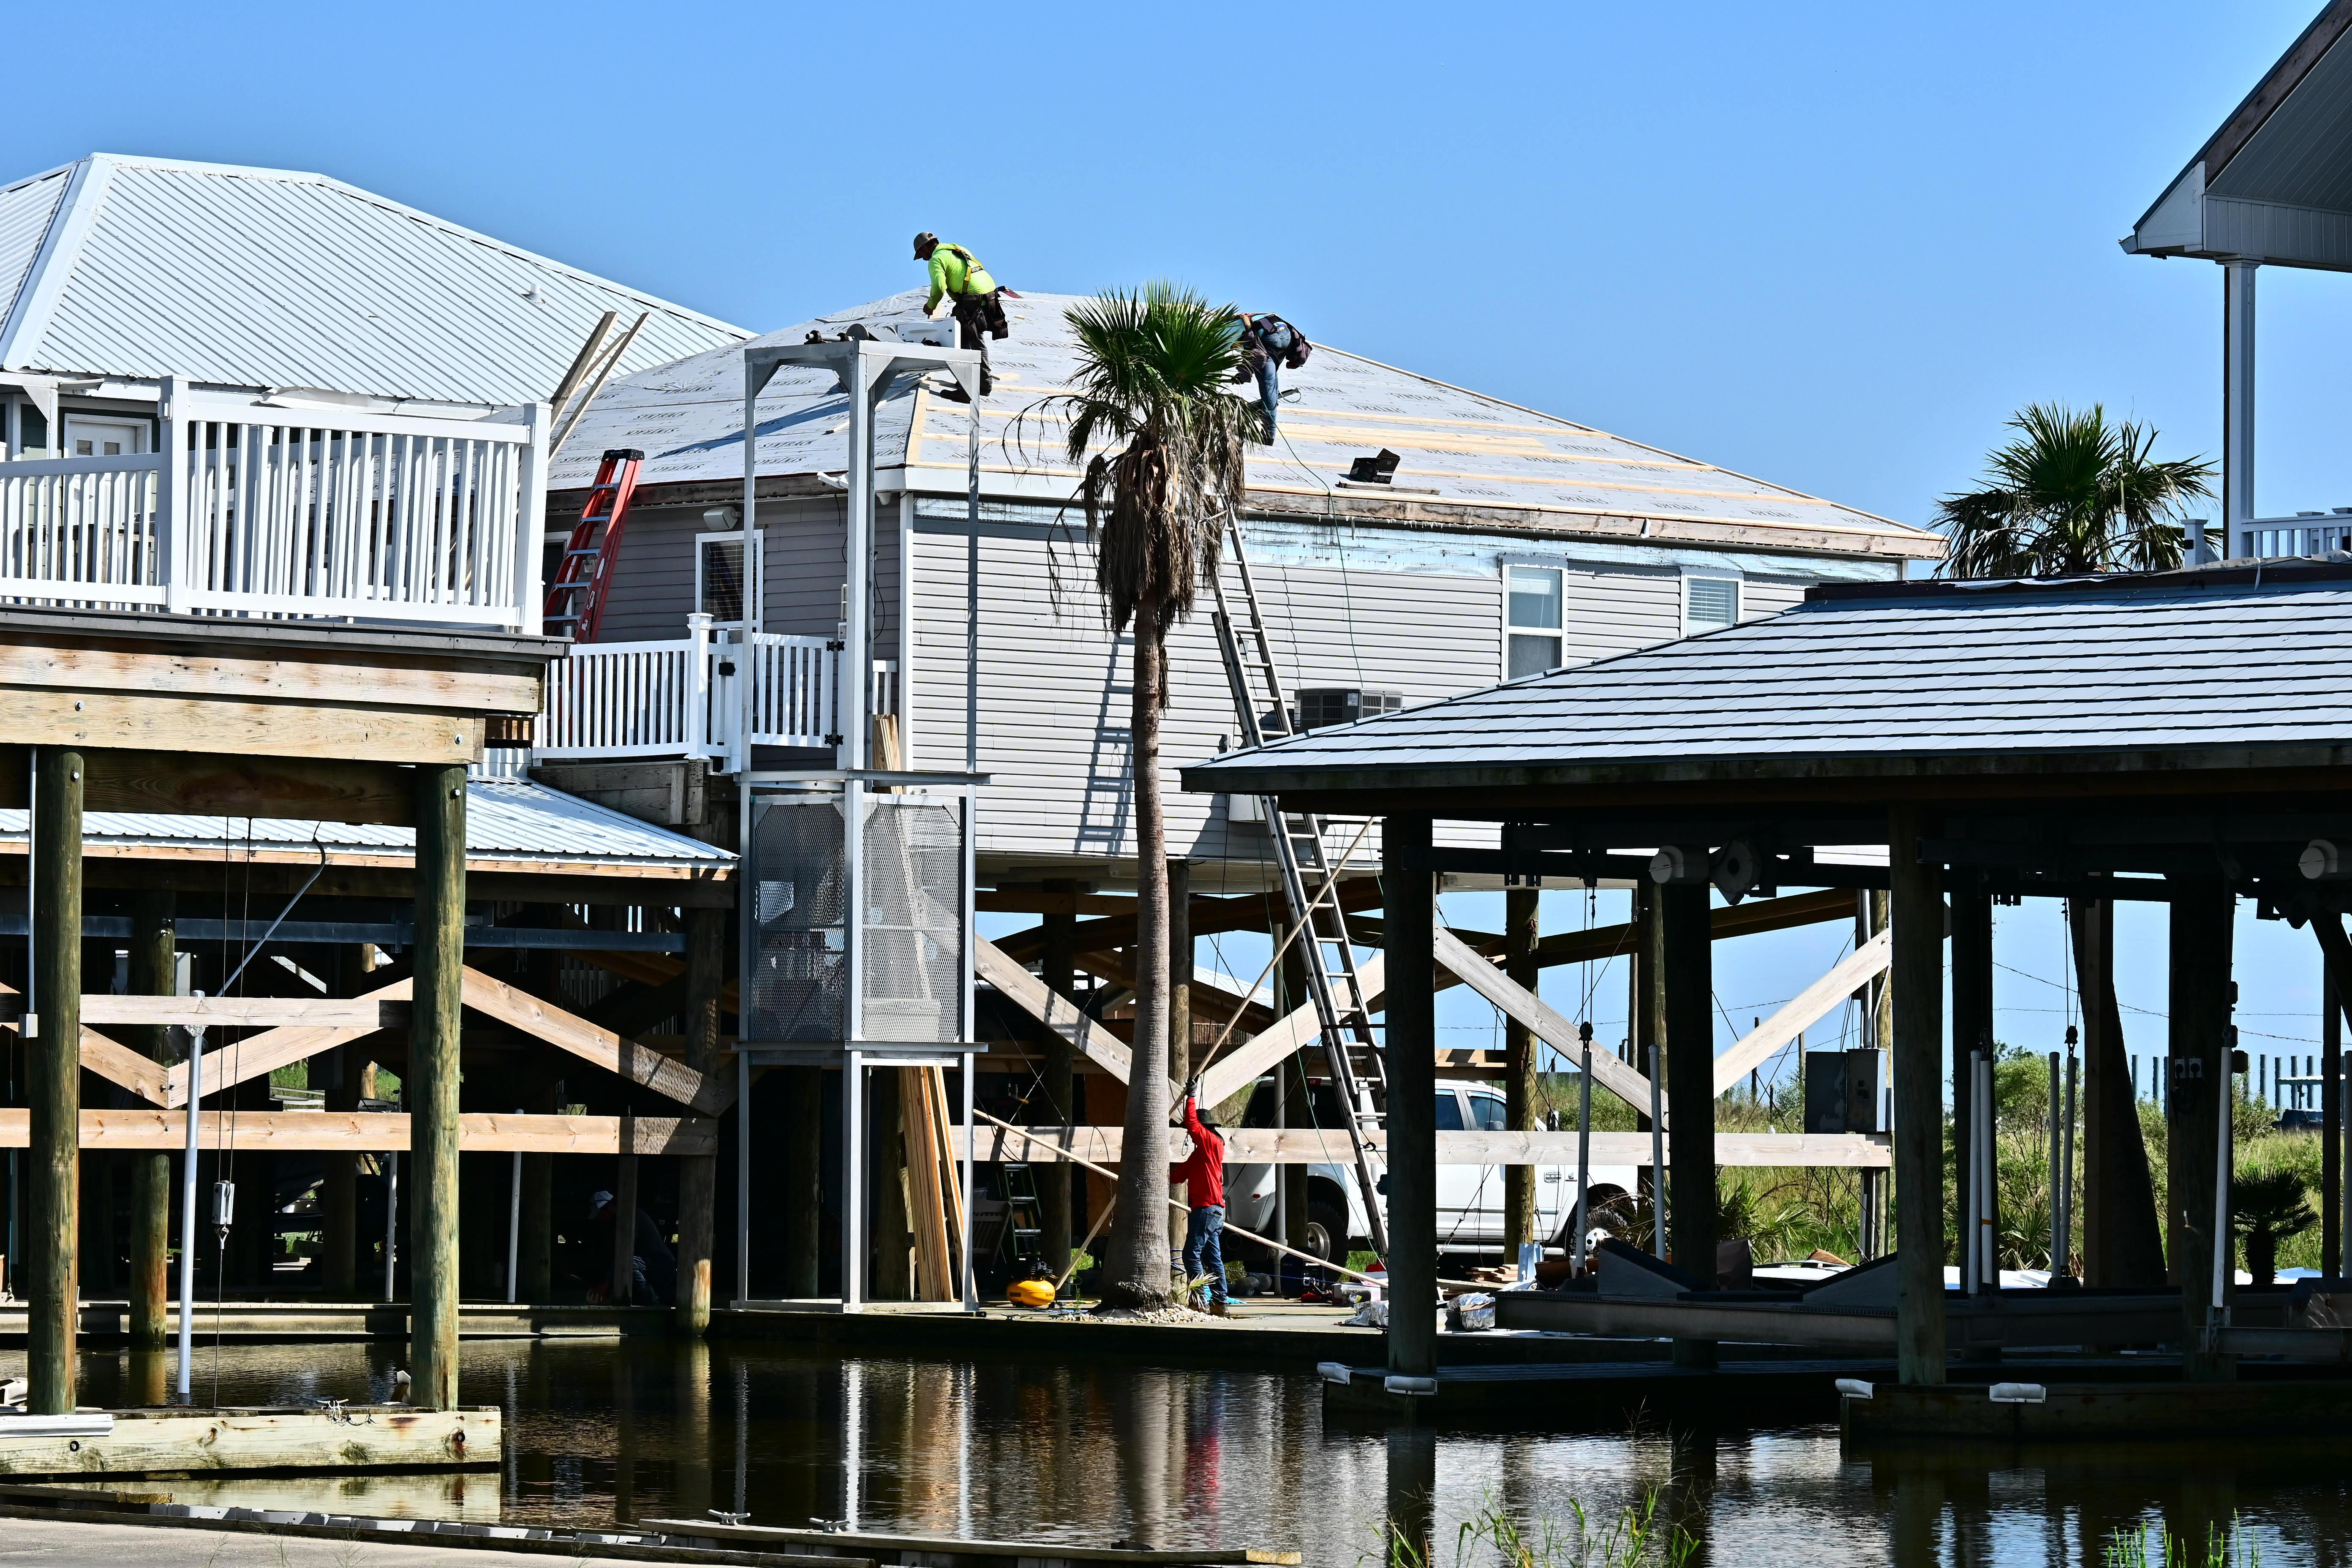minor: (410, 208, 1971, 1327)
